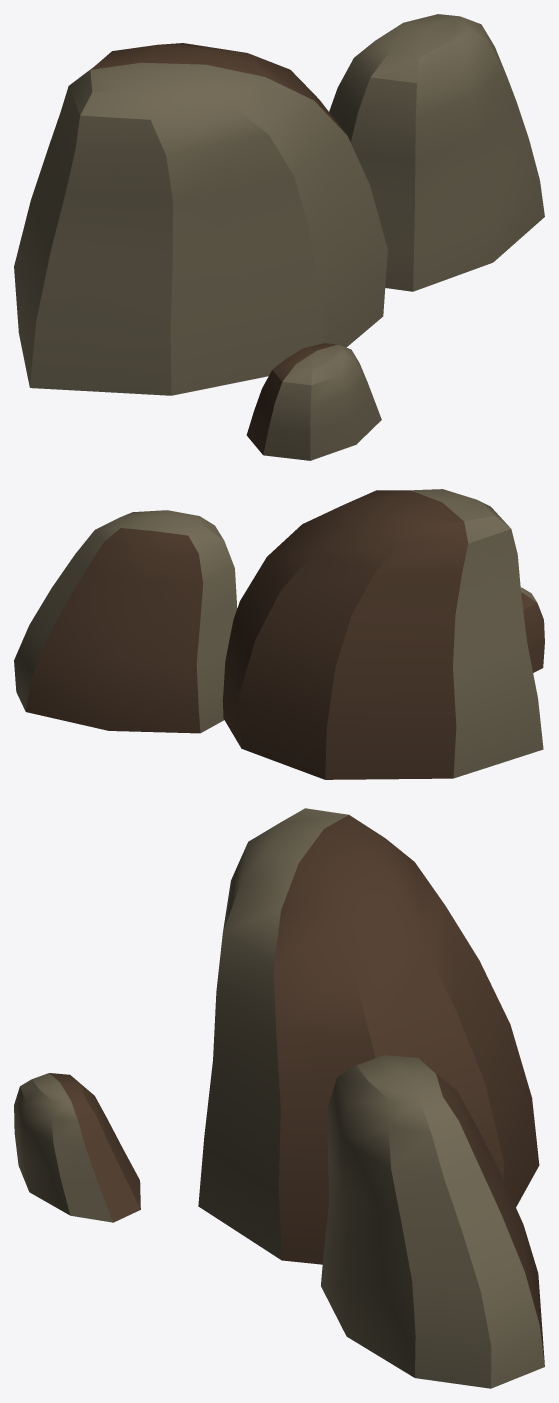
The model's file is rocks_small.fbx.
3 views of the same model, one above another, from view 1: azimuth 30°, elevation 25°; view 2: azimuth 150°, elevation 25°; view 3: azimuth 270°, elevation 25° (orthographic). The views are drawn at different scales.
Parts seen in each view (by area): view 1: rocks_small; view 2: rocks_small; view 3: rocks_small.
Boxes of the visible parts, x1,y1,x2,y2 form: rocks_small: (14,14,544,460); rocks_small: (14,489,544,779); rocks_small: (14,808,544,1388).
Bounding box in the file's own units: 59.52 × 29.27 × 43.61.
